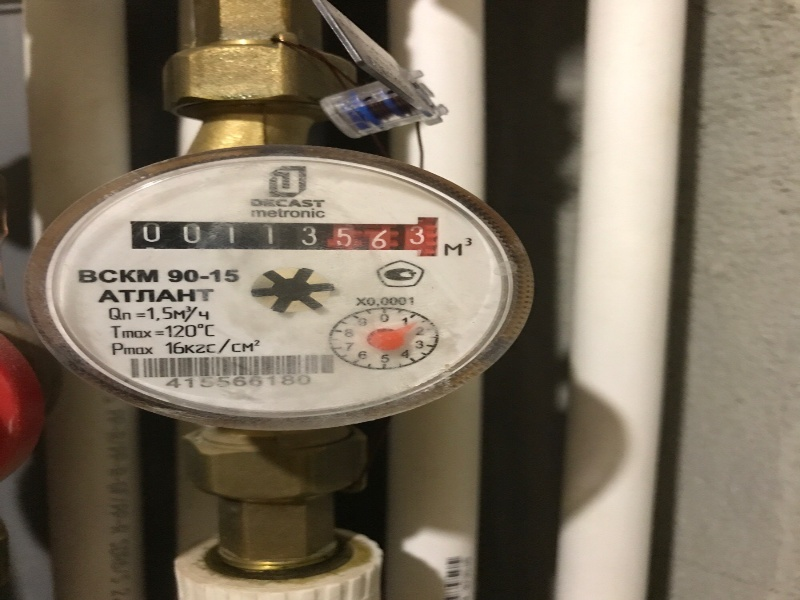dial: (113, 200, 443, 259)
